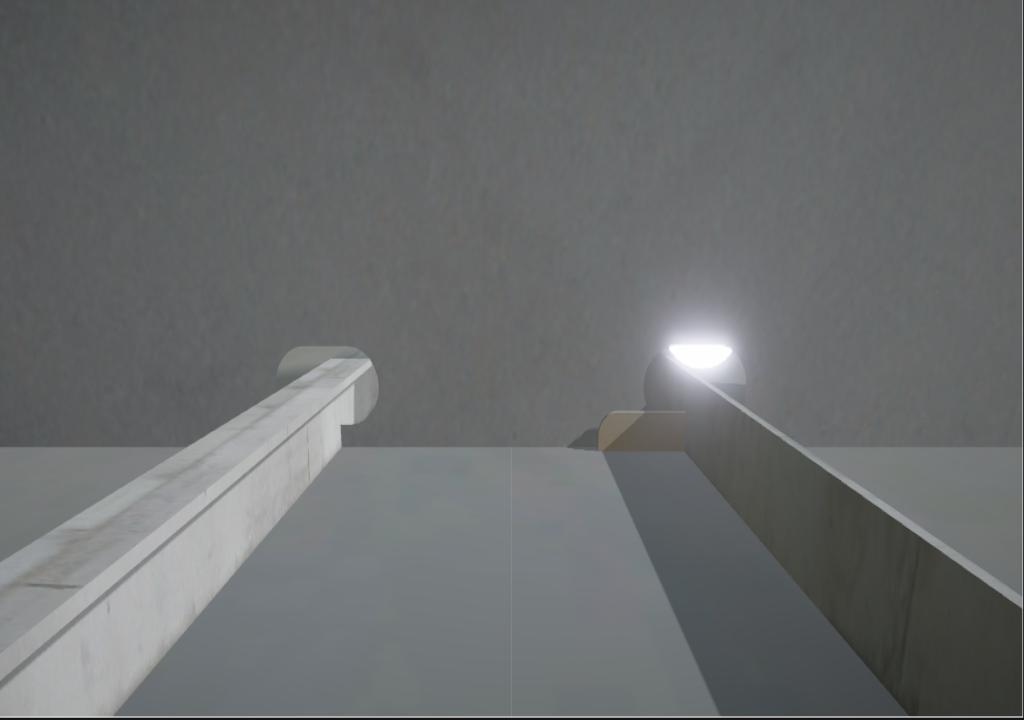fillet_yong_jeop_jang: (340, 443, 597, 449)
longi_yong_jeop_jang: (335, 421, 347, 454)
plate_CP05: (598, 408, 689, 452)
